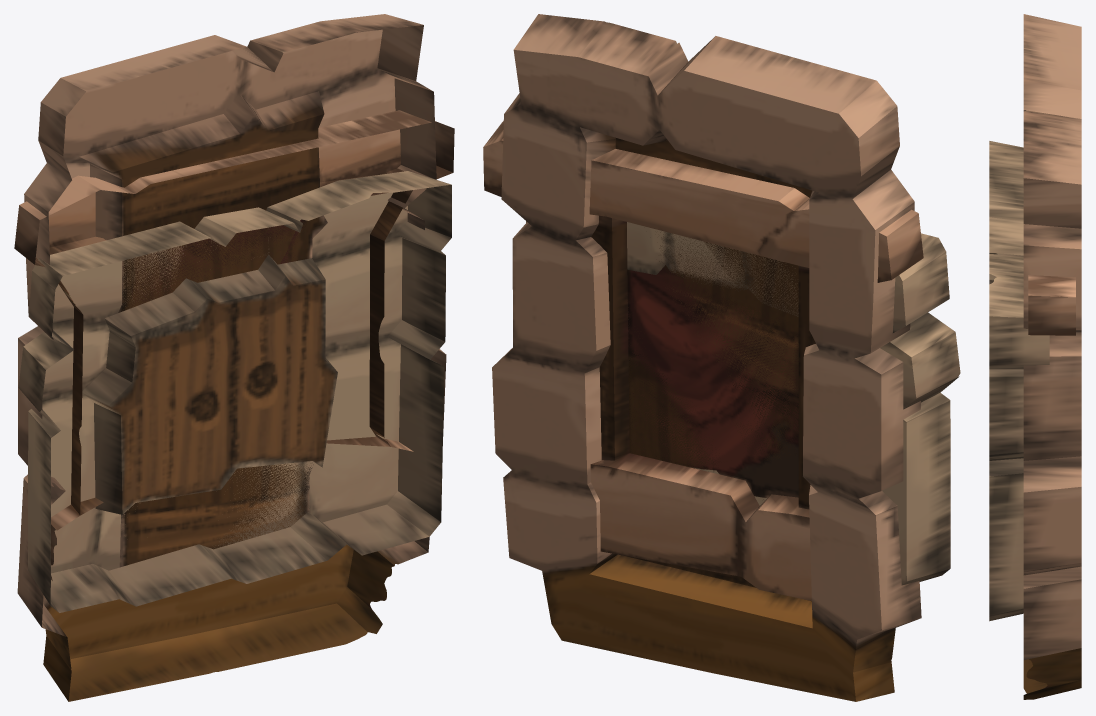
Rendered from Windows.fbx.
3 renders of one model, left to right at view 1: azimuth 30°, elevation 25°; view 2: azimuth 150°, elevation 25°; view 3: azimuth 270°, elevation 25°, orthographic. The views are drawn at different scales.
Visible parts, largest first — view 1: Window_2, Window_1, Window_3; view 2: Window_1, Window_3, Window_2; view 3: Window_1, Window_2, Window_3.
Boxes of the visible parts, left/top/right/bottom form: Window_2: left=18, top=171, right=451, bottom=612; Window_1: left=17, top=14, right=446, bottom=701; Window_3: left=14, top=110, right=454, bottom=580; Window_1: left=492, top=14, right=921, bottom=701; Window_3: left=483, top=121, right=923, bottom=600; Window_2: left=526, top=221, right=960, bottom=585; Window_1: left=1023, top=14, right=1081, bottom=699; Window_2: left=989, top=141, right=1049, bottom=621; Window_3: left=1028, top=275, right=1075, bottom=335.
Size of the model in its own units: 2.36 by 0.4782 by 3.22.
